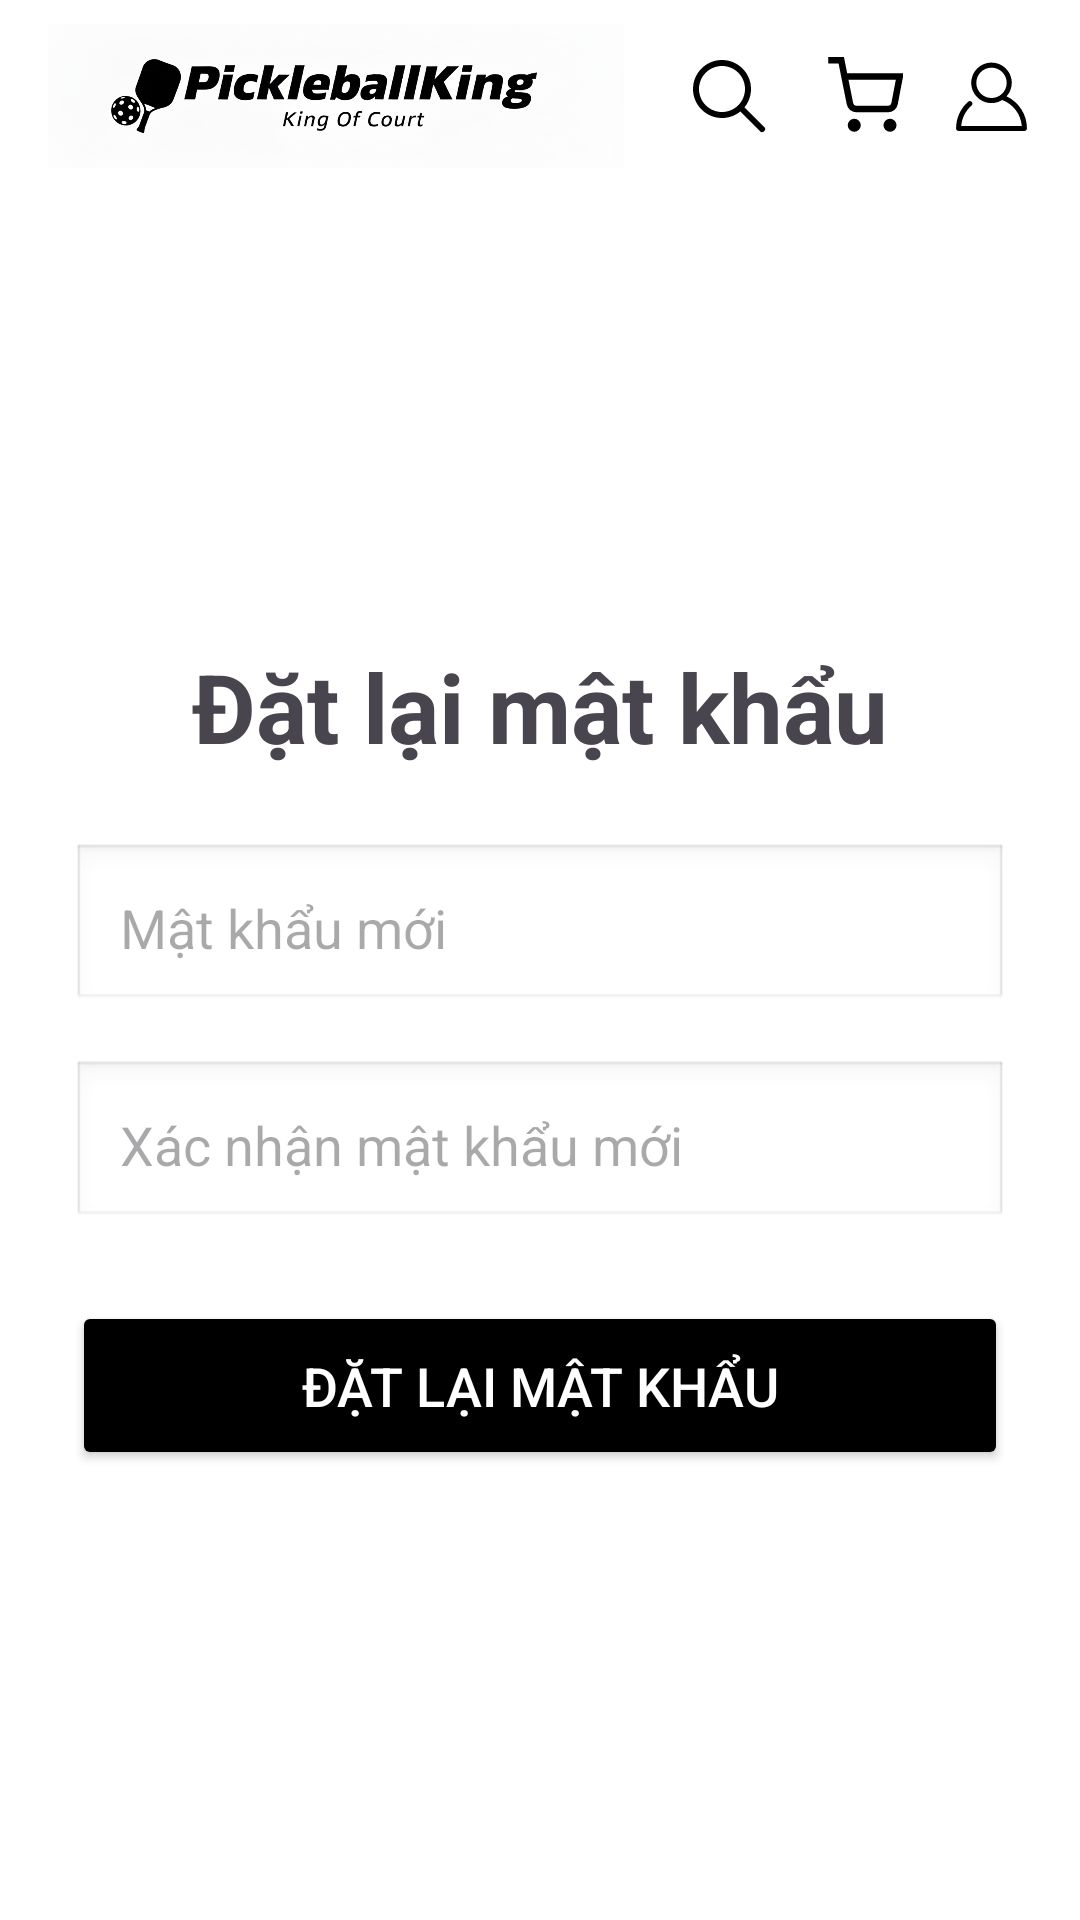

Named icons in this screenshot (1080px×1920px) and their bounding boxes, (x1, y1, x2, y2):
Account: (956, 62, 1027, 131)
Cart: (828, 57, 903, 132)
Search: (693, 60, 766, 133)
